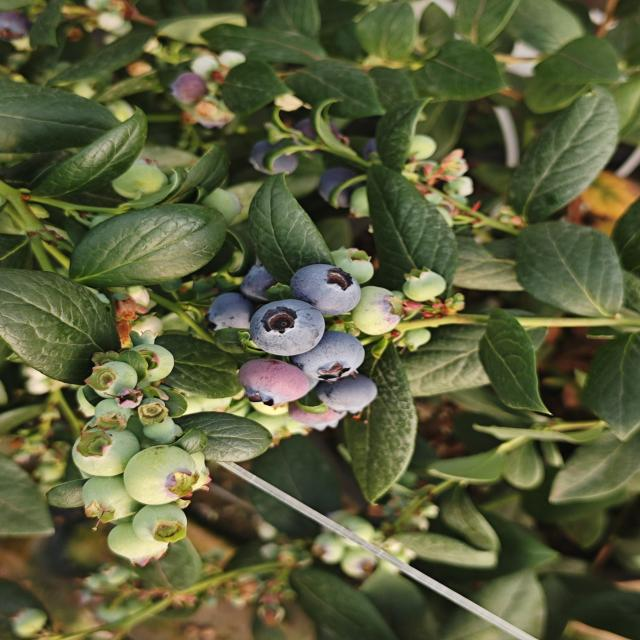ripe: (246, 298, 327, 358), (287, 262, 363, 318), (235, 356, 313, 410), (307, 330, 373, 380), (313, 155, 373, 206), (236, 256, 298, 305), (248, 127, 306, 178), (214, 288, 268, 339), (321, 375, 378, 408), (361, 128, 393, 162)
